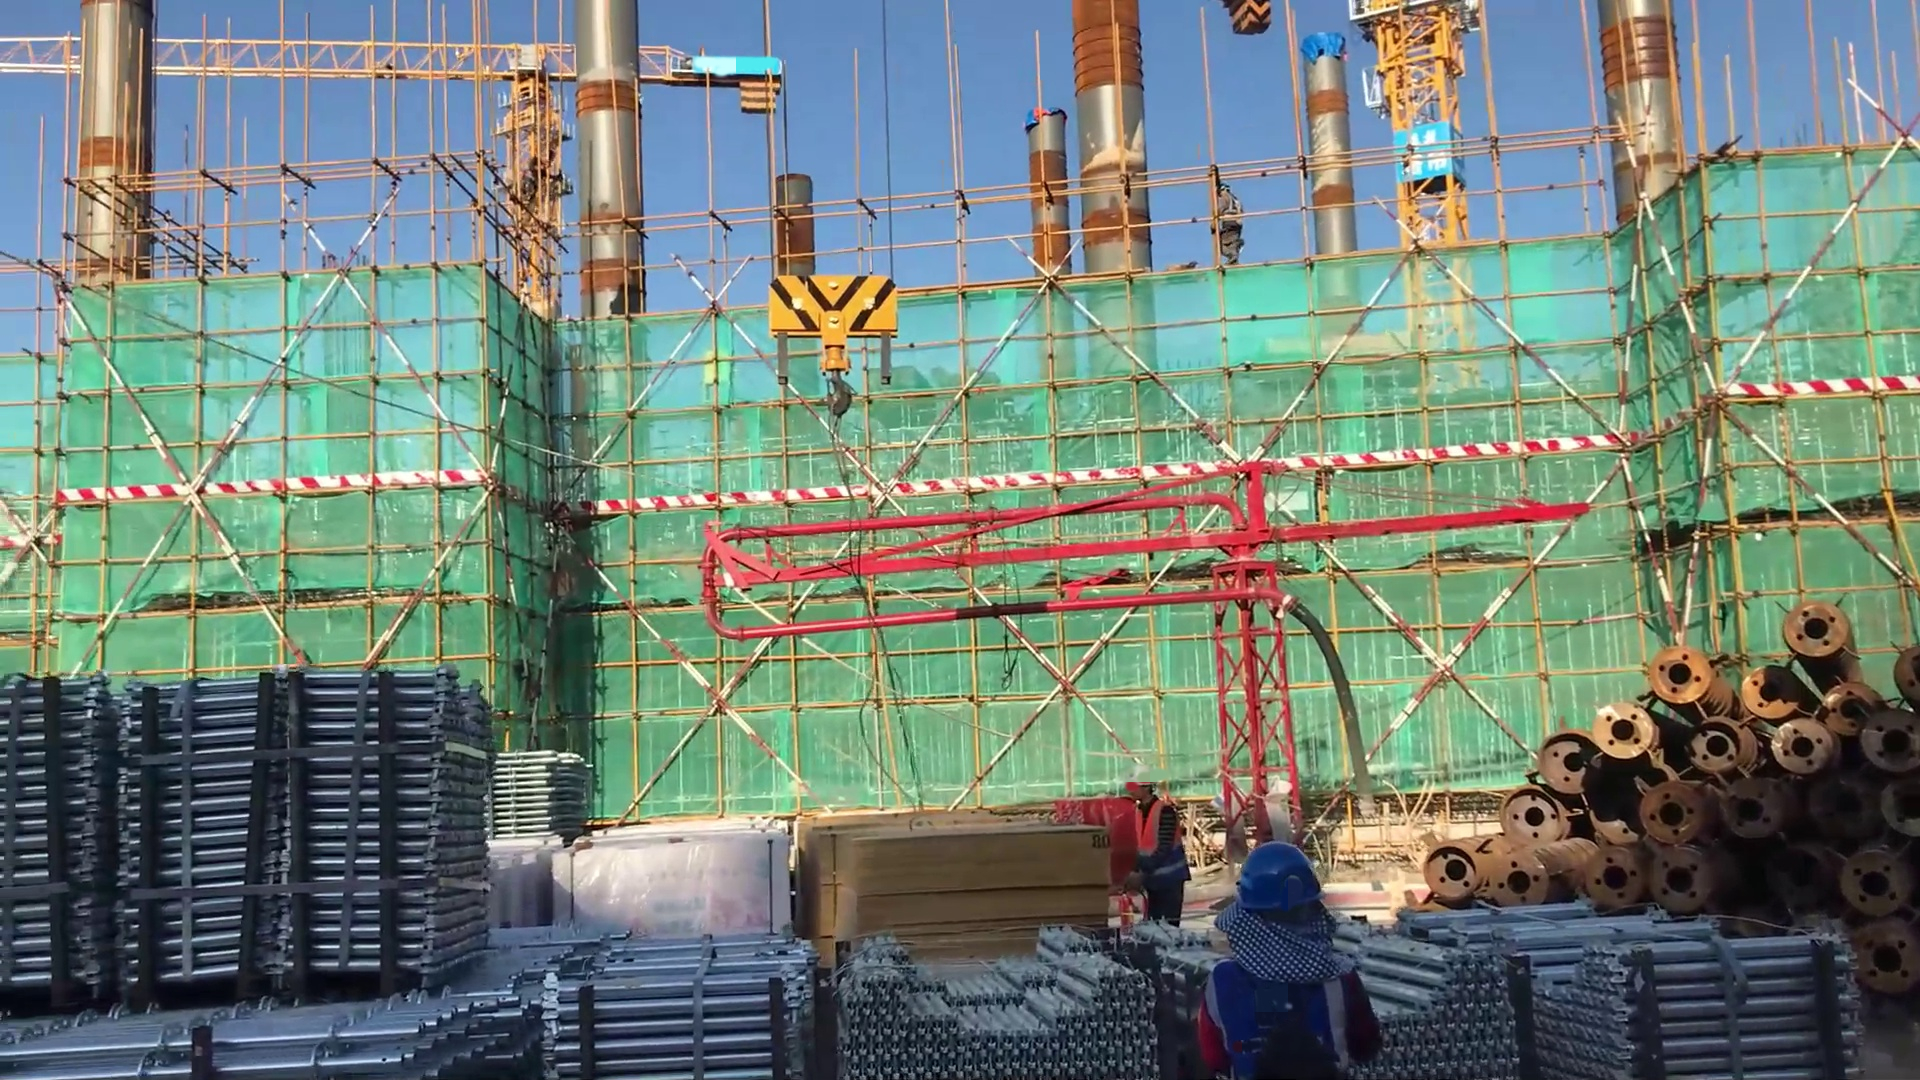board: (795, 816, 1116, 958)
helmet: (1223, 847, 1334, 916), (1129, 762, 1162, 786)
hook: (745, 256, 912, 452)
person: (1174, 842, 1396, 1080), (1122, 756, 1197, 934), (1208, 174, 1249, 271)
scaffold: (1, 655, 511, 991), (1, 941, 1141, 1076), (1352, 923, 1859, 1080), (490, 749, 598, 837)
slogan: (1390, 112, 1462, 189)
vest: (1204, 951, 1353, 1080), (1131, 802, 1188, 888), (1224, 191, 1244, 231)
